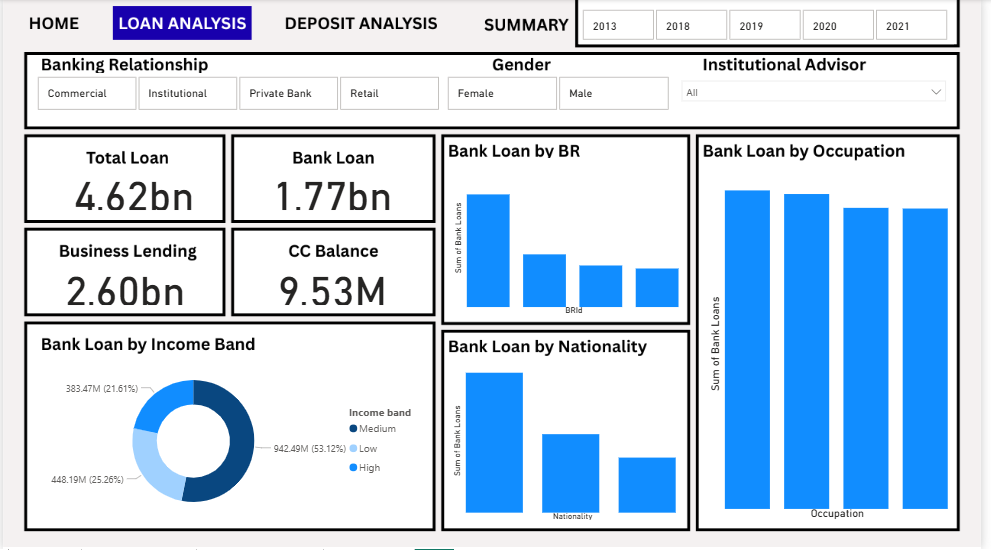

Layout of this report page (visuals, bound fields, positions):
{"tool":"powerbi","page":{"name":"Loan Analysis","canvas":[1280,720],"ordinal":1},"visuals":[{"type":"advancedSlicerVisual","fields":{"Values":["bank_details.Year of Joining"]},"box":[754.2,9.6,490,49.5],"z":0},{"type":"actionButton","box":[19.1,13.2,99.9,39.7],"z":1000},{"type":"actionButton","box":[362.9,10.3,214.5,39.7],"z":2000},{"type":"actionButton","box":[620.1,10.3,133.7,39.7],"z":3000},{"type":"card","fields":{"Values":["bank_details.Total Loan"]},"box":[69.1,221.9,204.2,60.2],"z":4000},{"type":"card","fields":{"Values":["Sum(bank_details.Bank Loans)"]},"box":[329.1,221.9,204.2,60.2],"z":5000},{"type":"card","fields":{"Values":["Sum(bank_details.Business Lending)"]},"box":[57.3,345.3,204.2,60.2],"z":6000},{"type":"card","fields":{"Values":["Sum(bank_details.Credit Card Balance)"]},"box":[329.1,345.3,204.2,60.2],"z":7000},{"type":"donutChart","fields":{"Category":["bank_details.Income band"],"Y":["Sum(bank_details.Bank Loans)"]},"box":[41.1,470.2,517.2,217.5],"z":8000},{"type":"clusteredColumnChart","fields":{"Category":["bank_details.BRId"],"Y":["Sum(bank_details.Bank Loans)"]},"box":[584.8,208.7,307.1,210.1],"z":9000},{"type":"clusteredColumnChart","fields":{"Y":["Sum(bank_details.Bank Loans)"],"Category":["bank_details.Nationality"]},"box":[583.3,470.2,307.1,217.5],"z":10000},{"type":"clusteredColumnChart","fields":{"Y":["Sum(bank_details.Bank Loans)"],"Category":["bank_details.Occupation"]},"box":[918.8,221.7,325.9,465.3],"z":11000},{"type":"advancedSlicerVisual","fields":{"Values":["bank_details.BRId"]},"box":[40.3,97.4,537.5,53.8],"z":12000},{"type":"advancedSlicerVisual","fields":{"Values":["bank_details.GenderId"]},"box":[577.8,97.4,300.7,53.8],"z":13000},{"type":"slicer","fields":{"Values":["bank_details.IAId"]},"box":[878.5,97.4,366.2,53.8],"z":14000}]}

Visuals, with their boxes in screenshot pixels (x1, y1, x2, y2), scaled from the page's 1280x720 canvas onto the 991x550 screenshot:
advancedSlicerVisual - bank_details.Year of Joining: left=584, top=7, right=963, bottom=45
actionButton: left=15, top=10, right=92, bottom=40
actionButton: left=281, top=8, right=447, bottom=38
actionButton: left=480, top=8, right=584, bottom=38
card - bank_details.Total Loan: left=53, top=170, right=212, bottom=215
card - Sum(bank_details.Bank Loans): left=255, top=170, right=413, bottom=215
card - Sum(bank_details.Business Lending): left=44, top=264, right=202, bottom=310
card - Sum(bank_details.Credit Card Balance): left=255, top=264, right=413, bottom=310
donutChart - bank_details.Income band x Sum(bank_details.Bank Loans): left=32, top=359, right=432, bottom=525
clusteredColumnChart - bank_details.BRId x Sum(bank_details.Bank Loans): left=453, top=159, right=691, bottom=320
clusteredColumnChart - Sum(bank_details.Bank Loans) x bank_details.Nationality: left=452, top=359, right=689, bottom=525
clusteredColumnChart - Sum(bank_details.Bank Loans) x bank_details.Occupation: left=711, top=169, right=964, bottom=525
advancedSlicerVisual - bank_details.BRId: left=31, top=74, right=447, bottom=115
advancedSlicerVisual - bank_details.GenderId: left=447, top=74, right=680, bottom=115
slicer - bank_details.IAId: left=680, top=74, right=964, bottom=115
